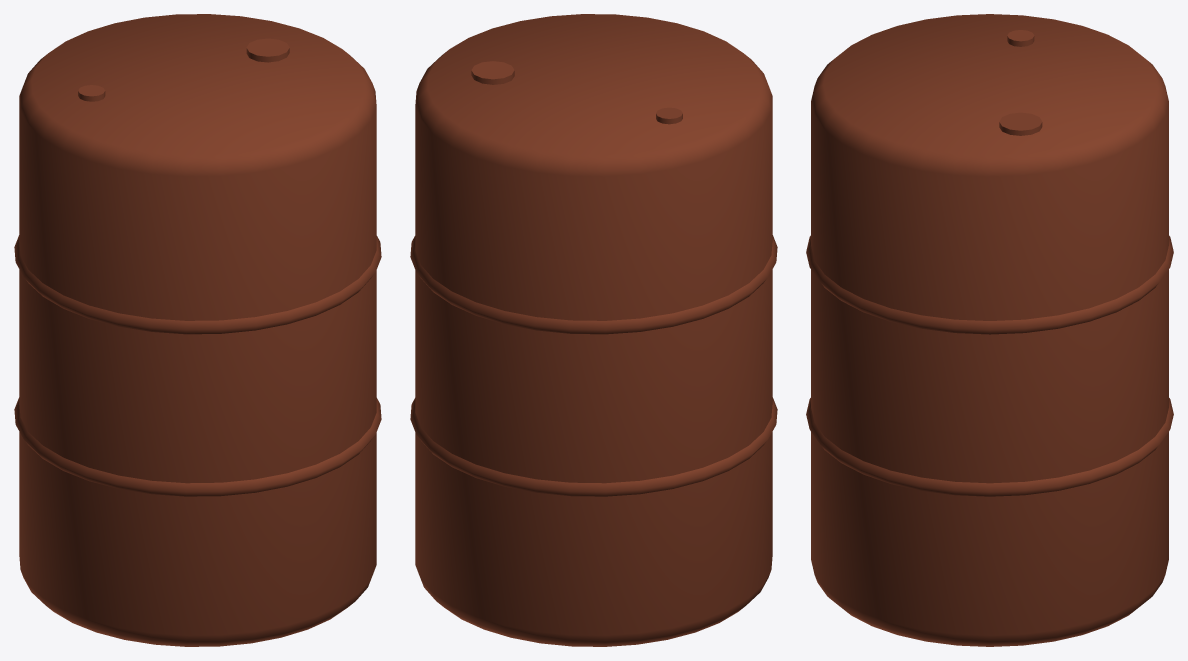
Rendered from drum_red.fbx.
3 renders of one model, left to right at view 1: azimuth 30°, elevation 25°; view 2: azimuth 150°, elevation 25°; view 3: azimuth 270°, elevation 25°, orthographic.
Visible parts, largest first — view 1: drum_red; view 2: drum_red; view 3: drum_red.
Boxes of the visible parts, x1,y1,x2,y2 form: drum_red: (14,14,381,646); drum_red: (410,14,777,646); drum_red: (806,14,1173,646).
Size of the model in its own units: 0.596 by 0.888 by 0.596.
